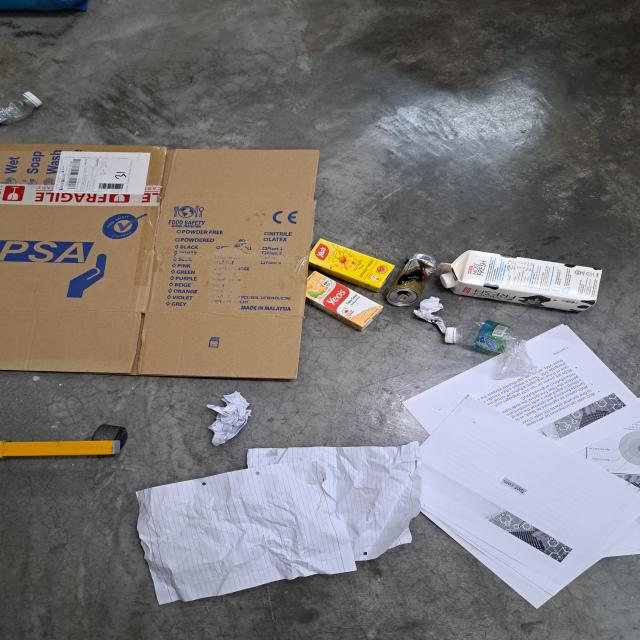can: (388, 254, 437, 306)
cardboard: (0, 143, 319, 381)
drink carton: (436, 250, 604, 313), (309, 238, 396, 293), (305, 270, 383, 330)
paper: (403, 324, 640, 608), (138, 447, 422, 603), (206, 392, 252, 444), (412, 296, 447, 333)
plastic bottle: (444, 321, 537, 378), (0, 90, 42, 126)
plastic bottle cap: (23, 90, 42, 108), (444, 325, 460, 344), (440, 272, 458, 288)
pop tab: (394, 294, 409, 305)
